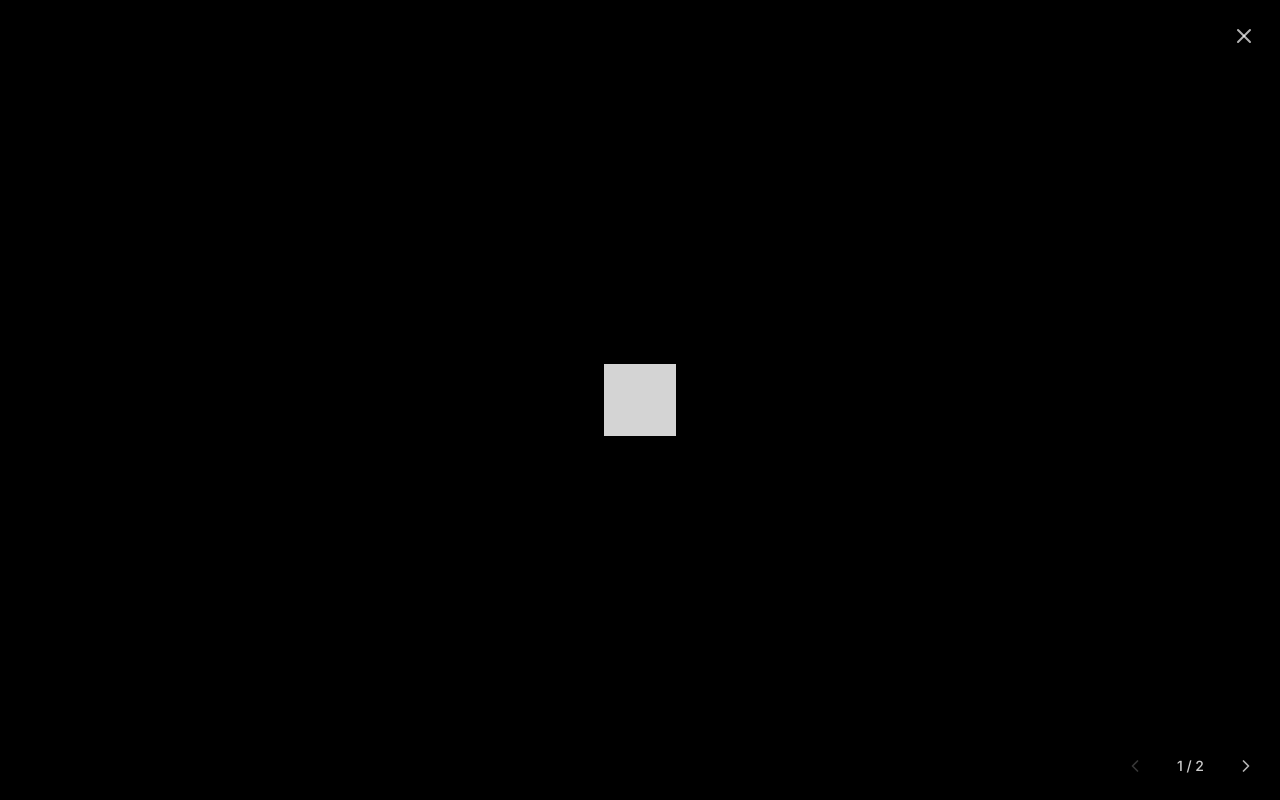
ScoreViewer — extended › handles touch swipe left to go next
Press the mouse on the dialog at (640, 400), box [0,0,1279,799]
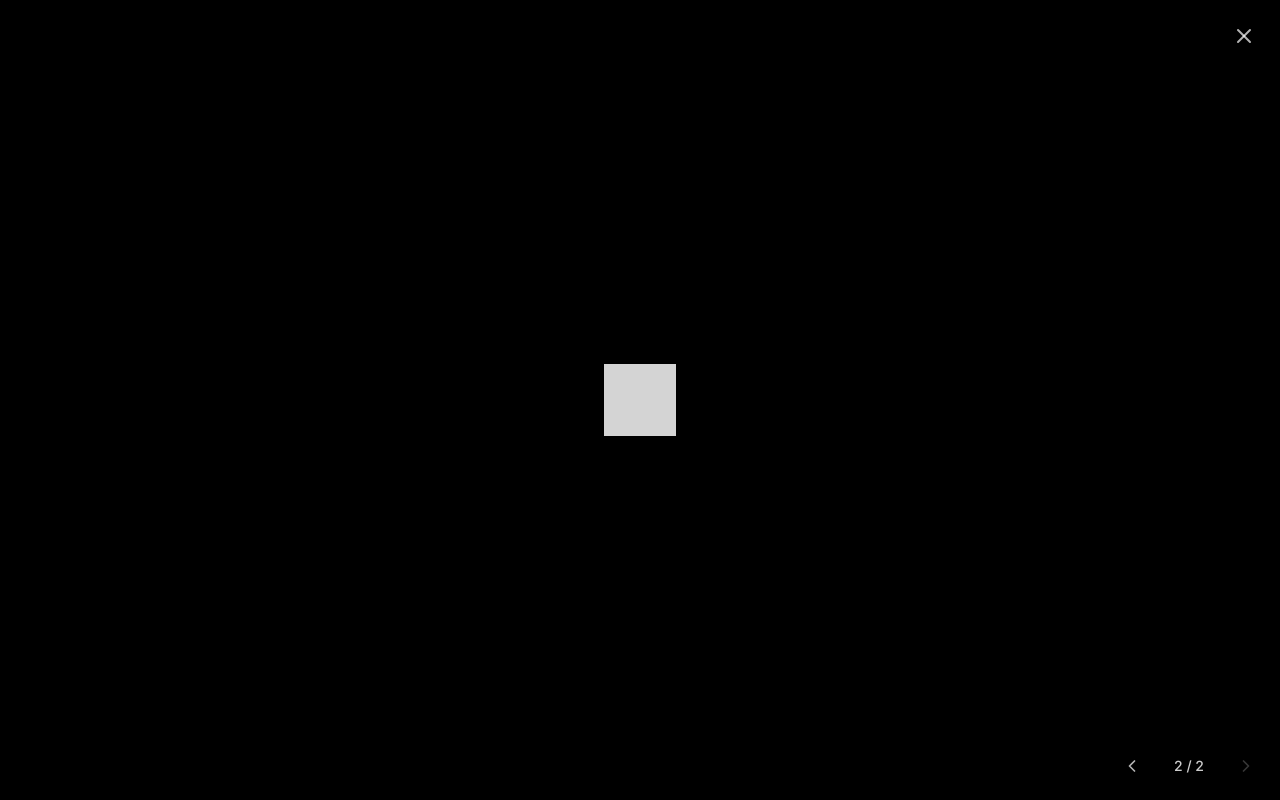
Expected: the text "2 / 2" is shown, [1162,752,1216,780]
